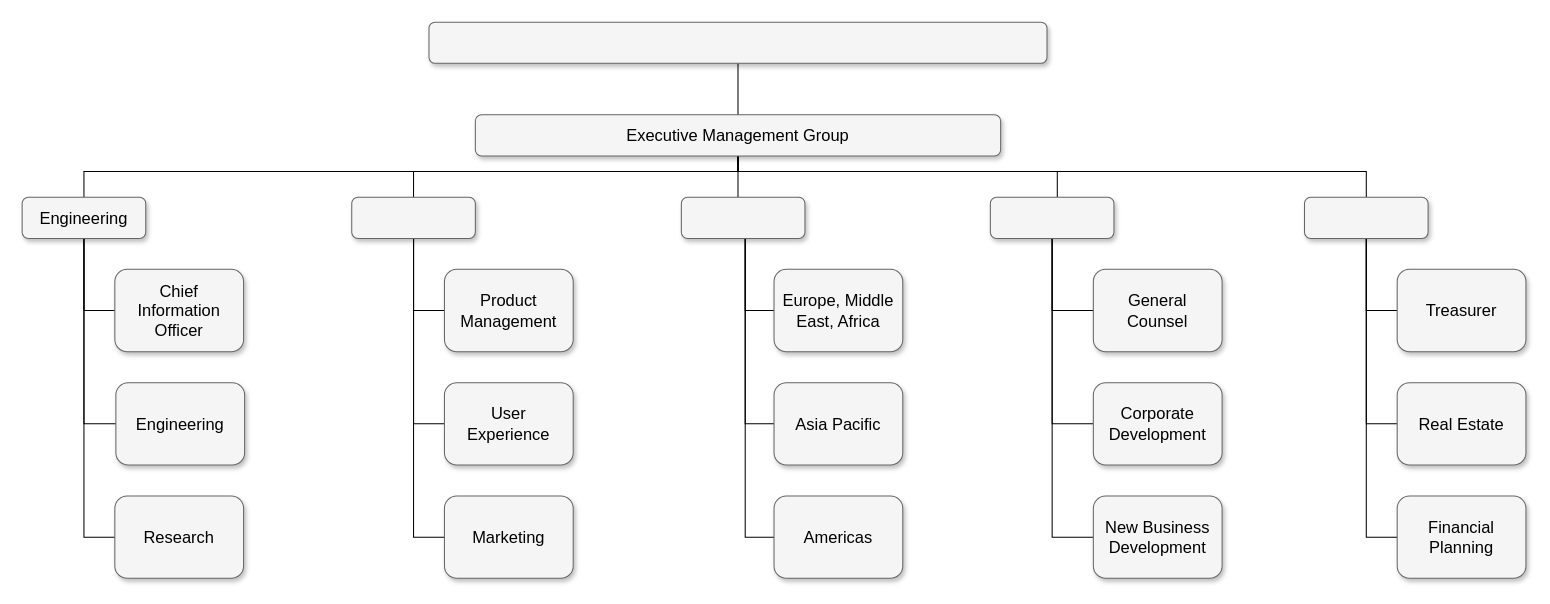
The diagram is 1550 pixels wide and 604 high, and some of its shapes have lost their labels. The shapes that lost their labels are listed below. From the top down, each one's centre as x and y in pixels, then its label:
[738,44]: Board of Directors
[414,219]: Products
[743,219]: Sales
[1052,219]: Legal
[1366,219]: Finance
